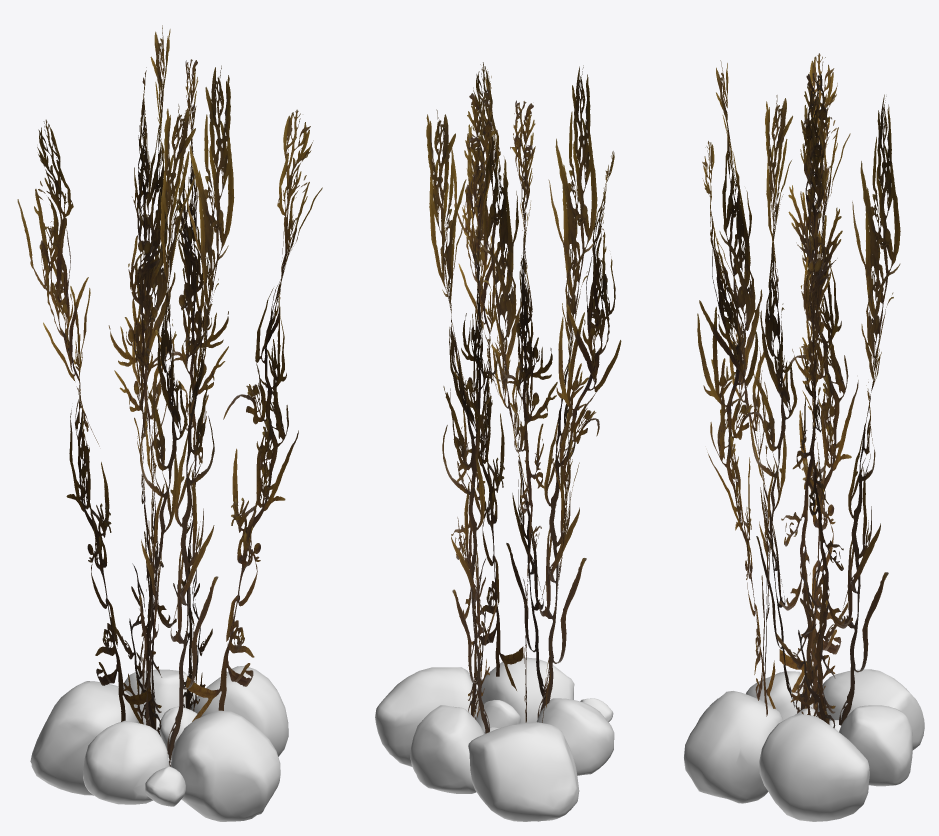
File: seaweed.fbx
3 views of the same model, side by side, from view 1: azimuth 30°, elevation 25°; view 2: azimuth 150°, elevation 25°; view 3: azimuth 270°, elevation 25° (orthographic). The views are drawn at different scales.
Parts seen in each view (by area): view 1: seaweed, RocksBase; view 2: seaweed, RocksBase; view 3: seaweed, RocksBase.
Boxes of the visible parts, x1,y1,x2,y2 form: seaweed: (17,25,322,766); RocksBase: (30,665,288,821); seaweed: (426,62,621,733); RocksBase: (375,657,614,821); seaweed: (697,53,900,728); RocksBase: (684,669,924,821).
Bounding box in the file's own units: 143 × 409 × 132.
